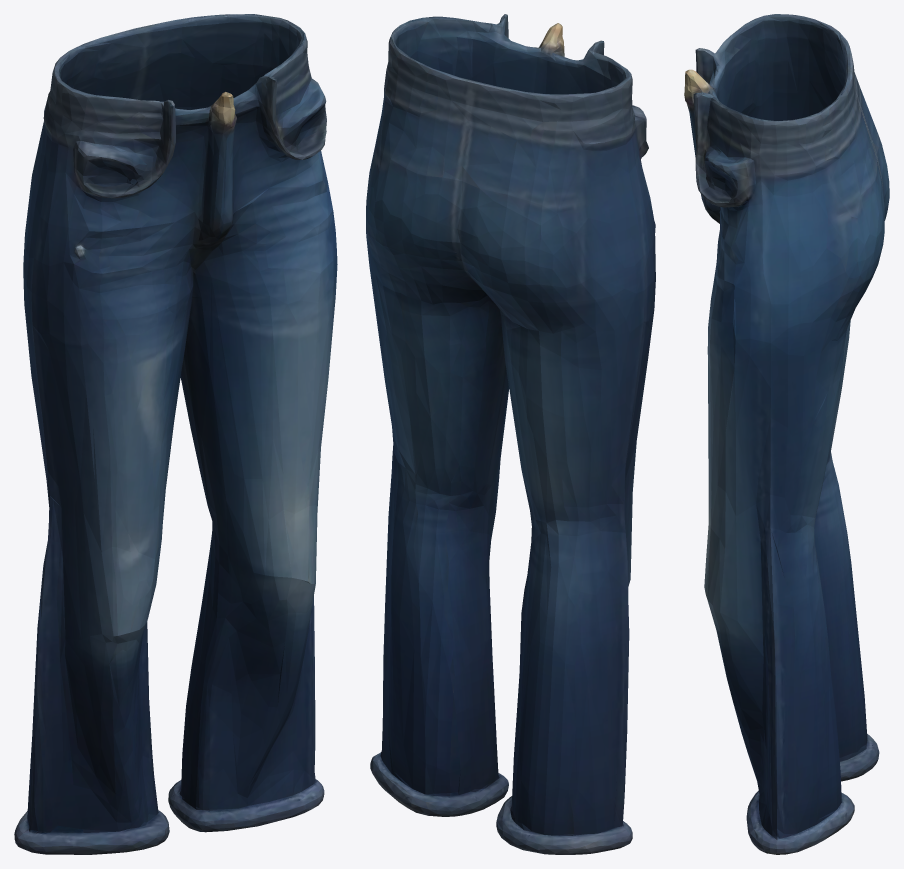
The picture shows the model from 3 angles, left to right: view 1: azimuth 30°, elevation 25°; view 2: azimuth 150°, elevation 25°; view 3: azimuth 270°, elevation 25°; orthographic projection. The views are drawn at different scales.
Visible parts, largest first — view 1: geometry_0; view 2: geometry_0; view 3: geometry_0.
Part boxes in pixels (bbox=[...]): geometry_0: bbox=[14, 14, 337, 854]; geometry_0: bbox=[366, 14, 655, 854]; geometry_0: bbox=[684, 14, 889, 854].
Size of the model in its own units: 0.3839 by 0.997 by 0.2549.
1 material, 1 textured.
